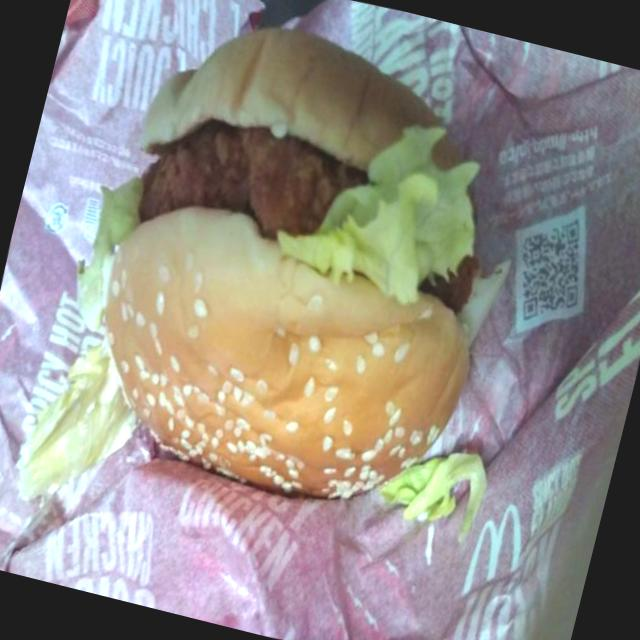Hamburger: (37, 0, 551, 558)
